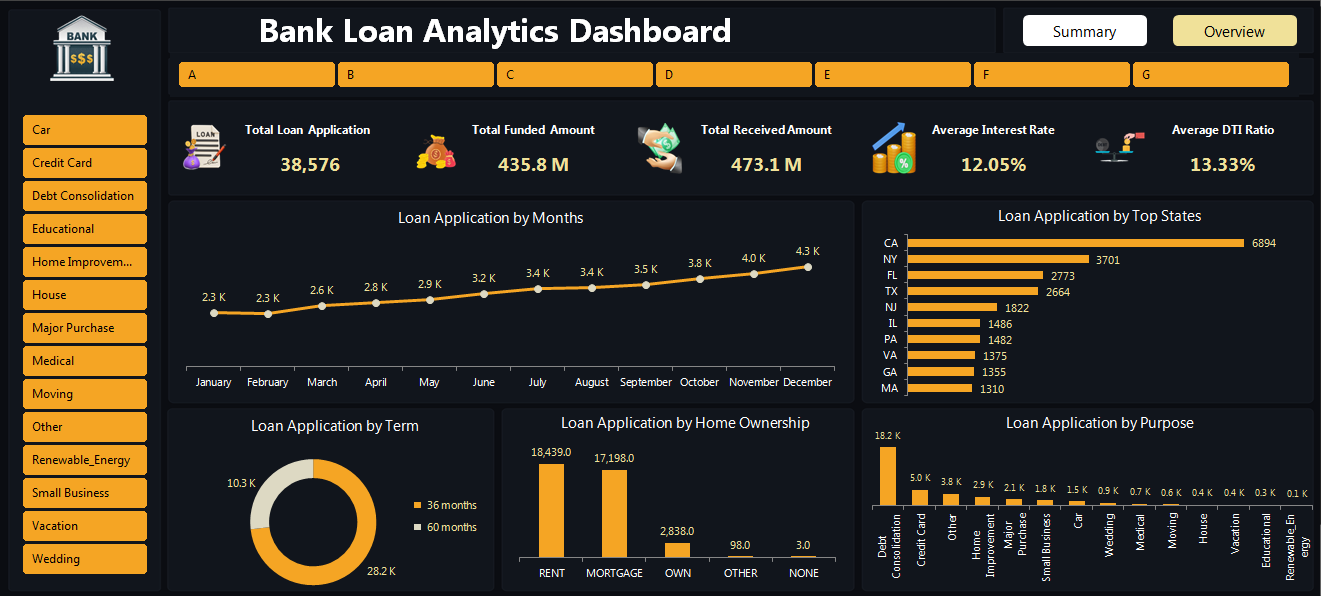

What the dashboard file says about the page in this screenshot:
{"tool":"powerbi","page":{"name":"Overview","canvas":[3300,1800],"ordinal":1},"visuals":[{"type":"cardVisual","fields":{"Data":["Financial Loan Data.Total Loan Application","Financial Loan Data.Total Funded Amount","Financial Loan Data.Total Amount Received","Financial Loan Data.Avg Int Rate","Financial Loan Data.Avg DTI Ratio"]},"box":[433.4,282.3,2847.2,282.3],"z":0},{"type":"donutChart","title":"Loan Application by Term","fields":{"Category":["Financial Loan Data.TERM"],"Y":["Financial Loan Data.Total Loan Application"]},"box":[429.5,1240.7,791.3,540.8],"z":1000},{"type":"clusteredColumnChart","title":"Loan Application by Home Ownership","fields":{"Y":["Financial Loan Data.Total Loan Application"],"Category":["Financial Loan Data.HOME_OWNERSHIP"]},"box":[1272.5,1240.7,843,540.8],"z":2000},{"type":"image","box":[39.8,11.9,330.1,234.6],"z":3000},{"type":"textbox","box":[429.5,0,2059.8,131.2],"z":4000},{"type":"advancedSlicerVisual","fields":{"Values":["Financial Loan Data.GRADE"]},"box":[429.3,154.3,2847.8,101.1],"z":5000},{"type":"advancedSlicerVisual","fields":{"Values":["Financial Loan Data.PURPOSE"]},"box":[23.9,425.5,369.8,1356],"z":6000},{"type":"treemap","title":"Loan Application by Purpose","fields":{"Group":["Financial Loan Data.PURPOSE"],"Values":["Financial Loan Data.Total Loan Application"]},"box":[2151.3,1240.7,1129.3,540.8],"z":7000},{"type":"lineChart","title":"Loan Application by Months","fields":{"Category":["Financial Loan Data.ISSUE_DATE.Variation.Date Hierarchy.Month"],"Y":["Financial Loan Data.Total Loan Application"]},"box":[433.4,592.5,1690,608.4],"z":8000},{"type":"pageNavigator","box":[2533,11.9,743.6,103.4],"z":9000},{"type":"actionButton","box":[23.9,282.3,369.8,99.4],"z":10000},{"type":"map","title":"Loan Application by State","fields":{"Category":["Financial Loan Data.ADDRESS_STATE"],"Size":["Financial Loan Data.Total Loan Application"]},"box":[2151.3,592.5,1125.4,608.4],"z":11000}]}

Visuals, with their boxes on the page's 3300x1800 design canvas (x1, y1, x2, y2). These are canvas units, not pixel positions in the 1321x596 screenshot, which may show the page scaled, cropped or inside an application window:
cardVisual - Financial Loan Data.Total Loan Application x Financial Loan Data.Total Funded Amount: (433,282,3281,565)
"Loan Application by Term" donutChart: (430,1241,1221,1782)
"Loan Application by Home Ownership" clusteredColumnChart: (1272,1241,2116,1782)
image: (40,12,370,246)
textbox: (430,0,2489,131)
advancedSlicerVisual - Financial Loan Data.GRADE: (429,154,3277,255)
advancedSlicerVisual - Financial Loan Data.PURPOSE: (24,426,394,1782)
"Loan Application by Purpose" treemap: (2151,1241,3281,1782)
"Loan Application by Months" lineChart: (433,592,2123,1201)
pageNavigator: (2533,12,3277,115)
actionButton: (24,282,394,382)
"Loan Application by State" map: (2151,592,3277,1201)
